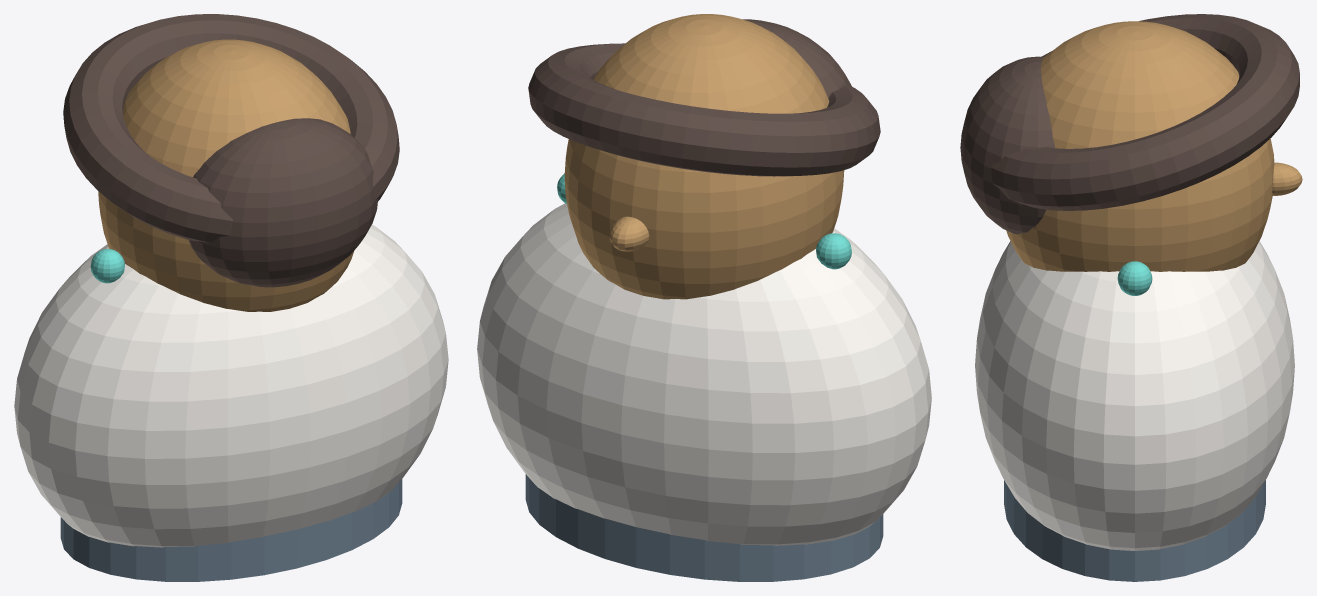
The model's file is leola_blender_stylized.glb.
3 renders of one model, left to right at view 1: azimuth 30°, elevation 25°; view 2: azimuth 150°, elevation 25°; view 3: azimuth 270°, elevation 25°, orthographic. The views are drawn at different scales.
Parts seen in each view (by area): view 1: Leola_Blouse, Leola_Head, Leola_CrownBraid, Leola_HairBun, Leola_Vest, Earring_L; view 2: Leola_Blouse, Leola_Head, Leola_CrownBraid, Leola_Vest, Leola_HairBun, Leola_Nose, Earring_L; view 3: Leola_Blouse, Leola_Head, Leola_CrownBraid, Leola_HairBun, Leola_Vest, Earring_R, Leola_Nose.
Part boxes in pixels (<box>): Leola_Blouse: <box>14,224,448,547</box>; Leola_Head: <box>98,39,353,311</box>; Leola_CrownBraid: <box>63,14,399,242</box>; Leola_HairBun: <box>188,118,378,287</box>; Leola_Vest: <box>60,479,402,581</box>; Earring_L: <box>90,249,124,283</box>; Leola_Blouse: <box>477,203,931,545</box>; Leola_Head: <box>564,14,844,299</box>; Leola_CrownBraid: <box>528,43,880,176</box>; Leola_Vest: <box>525,474,883,581</box>; Leola_HairBun: <box>743,19,851,97</box>; Leola_Nose: <box>609,216,649,251</box>; Earring_L: <box>816,233,851,269</box>; Leola_Blouse: <box>975,241,1294,550</box>; Leola_Head: <box>1006,21,1274,271</box>; Leola_CrownBraid: <box>990,14,1299,210</box>; Leola_HairBun: <box>960,56,1054,234</box>; Leola_Vest: <box>1004,480,1265,581</box>; Earring_R: <box>1117,261,1152,295</box>; Leola_Nose: <box>1272,162,1302,195</box>.
Size of the model in its own units: 1.21 by 1.44 by 0.882.
